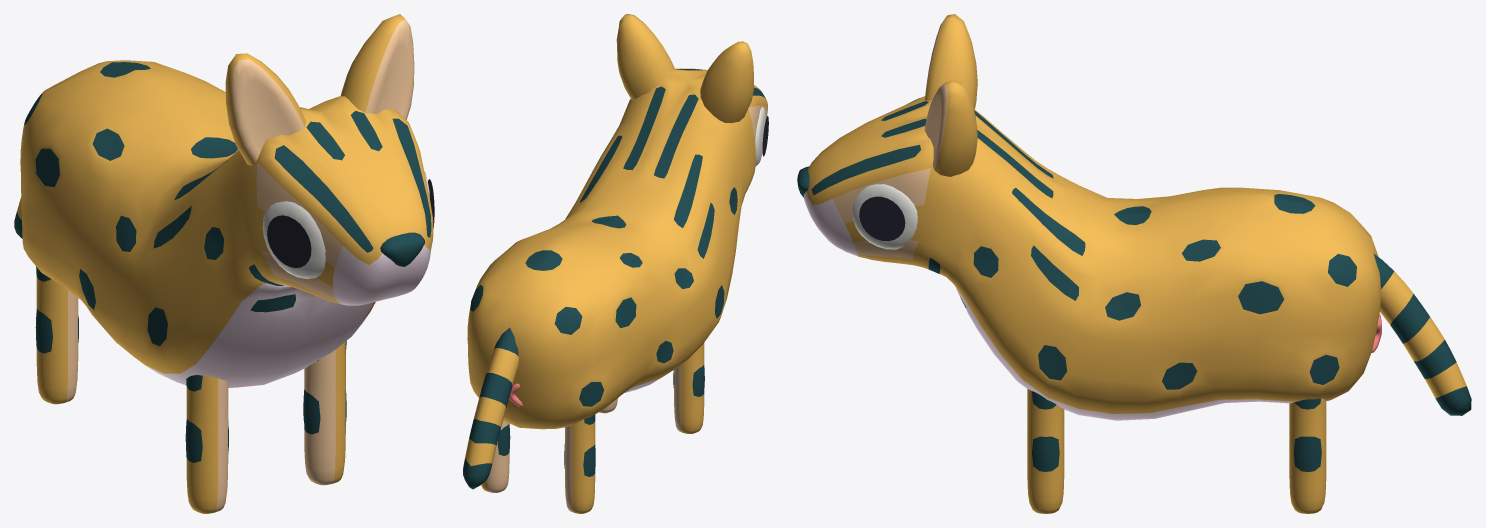
The model's file is Serval.glb.
The picture shows the model from 3 angles, left to right: view 1: azimuth 30°, elevation 25°; view 2: azimuth 150°, elevation 25°; view 3: azimuth 270°, elevation 25°; orthographic projection. The views are drawn at different scales.
Visible parts, largest first — view 1: Serval; view 2: Serval; view 3: Serval.
Boxes of the visible parts, x1=… form: Serval: x1=14, y1=14, x2=434, y2=513; Serval: x1=463, y1=14, x2=768, y2=513; Serval: x1=797, y1=14, x2=1471, y2=513.
Size of the model in its own units: 0.9441 by 2.1 by 2.95.
1 material, 1 textured.
